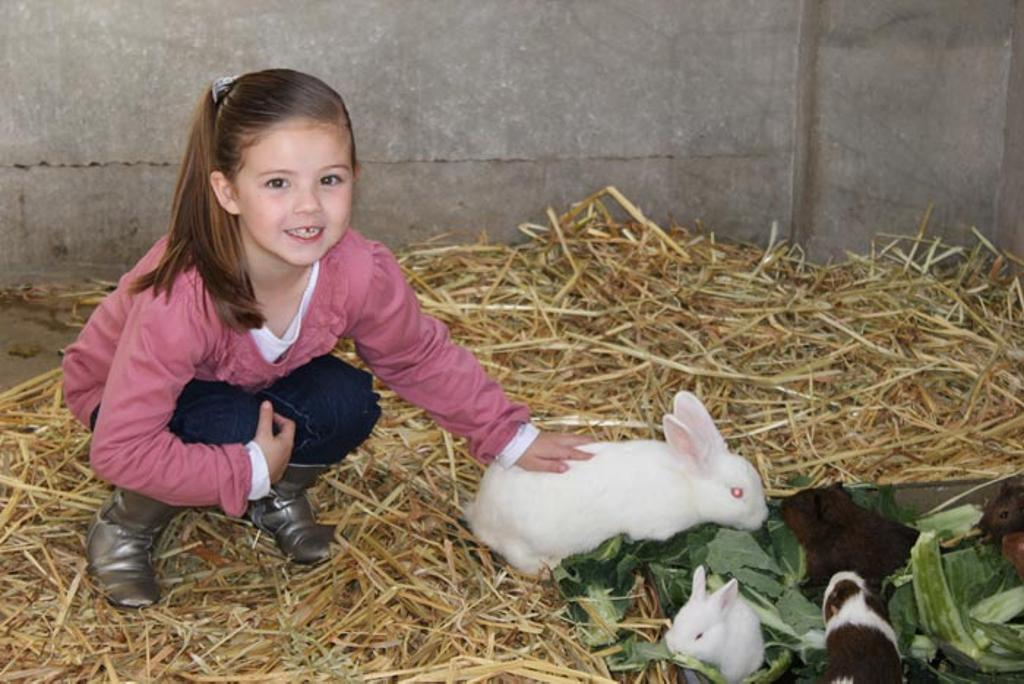face: (244, 120, 354, 266)
